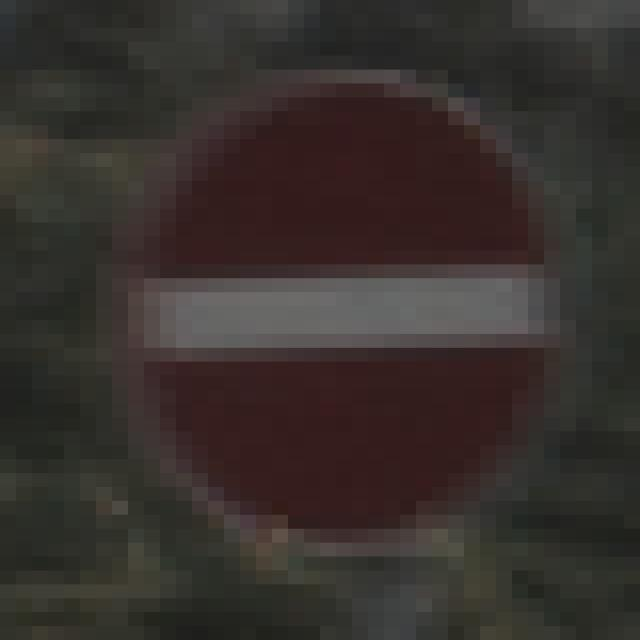No Entry: (97, 71, 545, 558)
